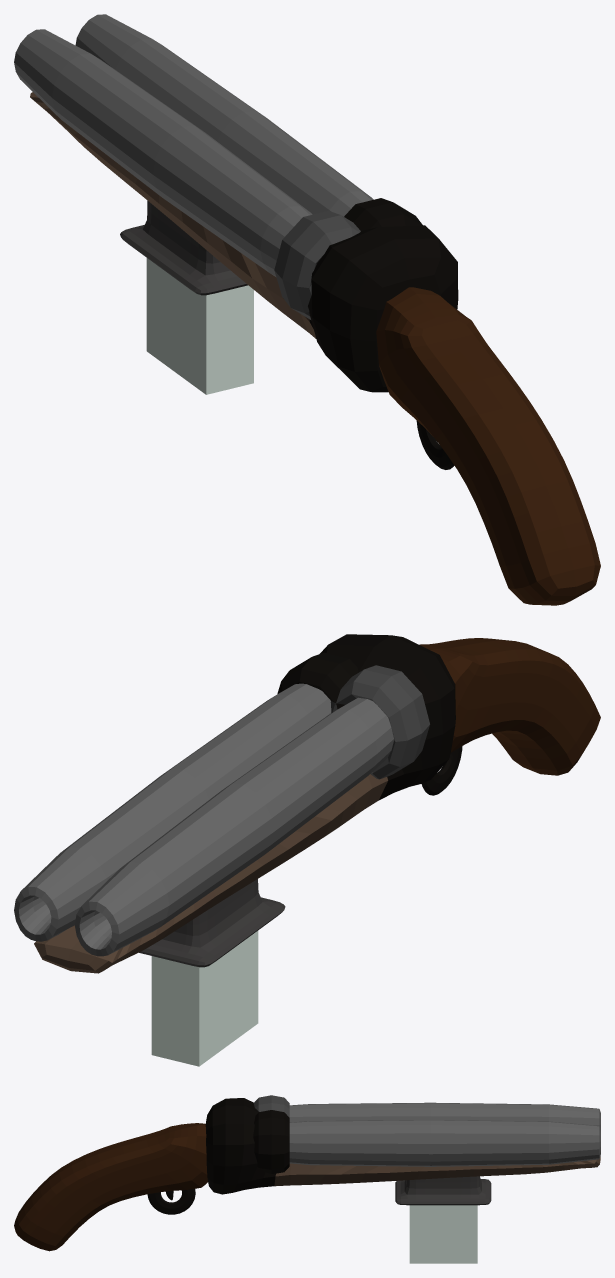
The model's file is PirateShotGun.fbx.
3 views of the same model, one above another, from view 1: azimuth 30°, elevation 25°; view 2: azimuth 150°, elevation 25°; view 3: azimuth 270°, elevation 25° (orthographic). The views are drawn at different scales.
Visible parts, largest first — view 1: Cylinder.002, Cube, Cube.001, Ammo, Ammo Holder, Torus.001, Torus; view 2: Cylinder.002, Cube, Cube.001, Ammo, Ammo Holder, Torus.001, Torus, Cube.003; view 3: Cylinder.002, Cube, Cube.001, Ammo, Ammo Holder, Torus, Cube.003, Torus.001.
Boxes of the visible parts, x1=… form: Cylinder.002: x1=14, y1=14, x2=373, y2=276; Cube: x1=376, y1=287, x2=600, y2=605; Cube.001: x1=30, y1=92, x2=458, y2=392; Ammo: x1=146, y1=258, x2=253, y2=394; Ammo Holder: x1=120, y1=200, x2=247, y2=295; Torus.001: x1=274, y1=210, x2=360, y2=319; Torus: x1=344, y1=198, x2=422, y2=230; Cylinder.002: x1=14, y1=683, x2=393, y2=956; Cube: x1=419, y1=638, x2=600, y2=775; Cube.001: x1=34, y1=634, x2=455, y2=973; Ammo: x1=151, y1=930, x2=258, y2=1066; Ammo Holder: x1=139, y1=879, x2=285, y2=967; Torus.001: x1=330, y1=665, x2=429, y2=779; Torus: x1=277, y1=652, x2=358, y2=709; Cube.003: x1=421, y1=746, x2=462, y2=795; Cylinder.002: x1=289, y1=1102, x2=600, y2=1166; Cube: x1=14, y1=1123, x2=207, y2=1251; Cube.001: x1=205, y1=1098, x2=600, y2=1194; Ammo: x1=409, y1=1205, x2=477, y2=1263; Ammo Holder: x1=395, y1=1176, x2=491, y2=1205; Torus: x1=253, y1=1110, x2=289, y2=1173; Cube.003: x1=147, y1=1189, x2=195, y2=1214; Torus.001: x1=253, y1=1095, x2=289, y2=1117.
Bounding box in the file's own units: 78.78 × 141 × 493.
